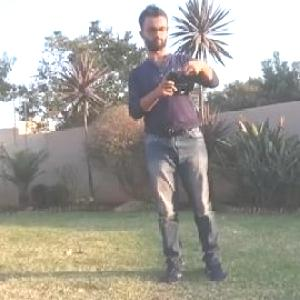follow: (120, 0, 232, 289)
